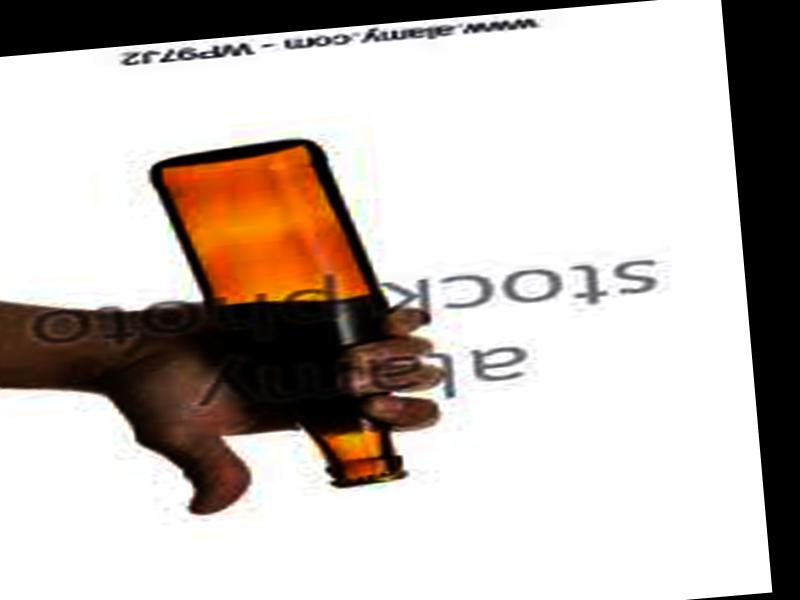Beer: (146, 134, 412, 497)
